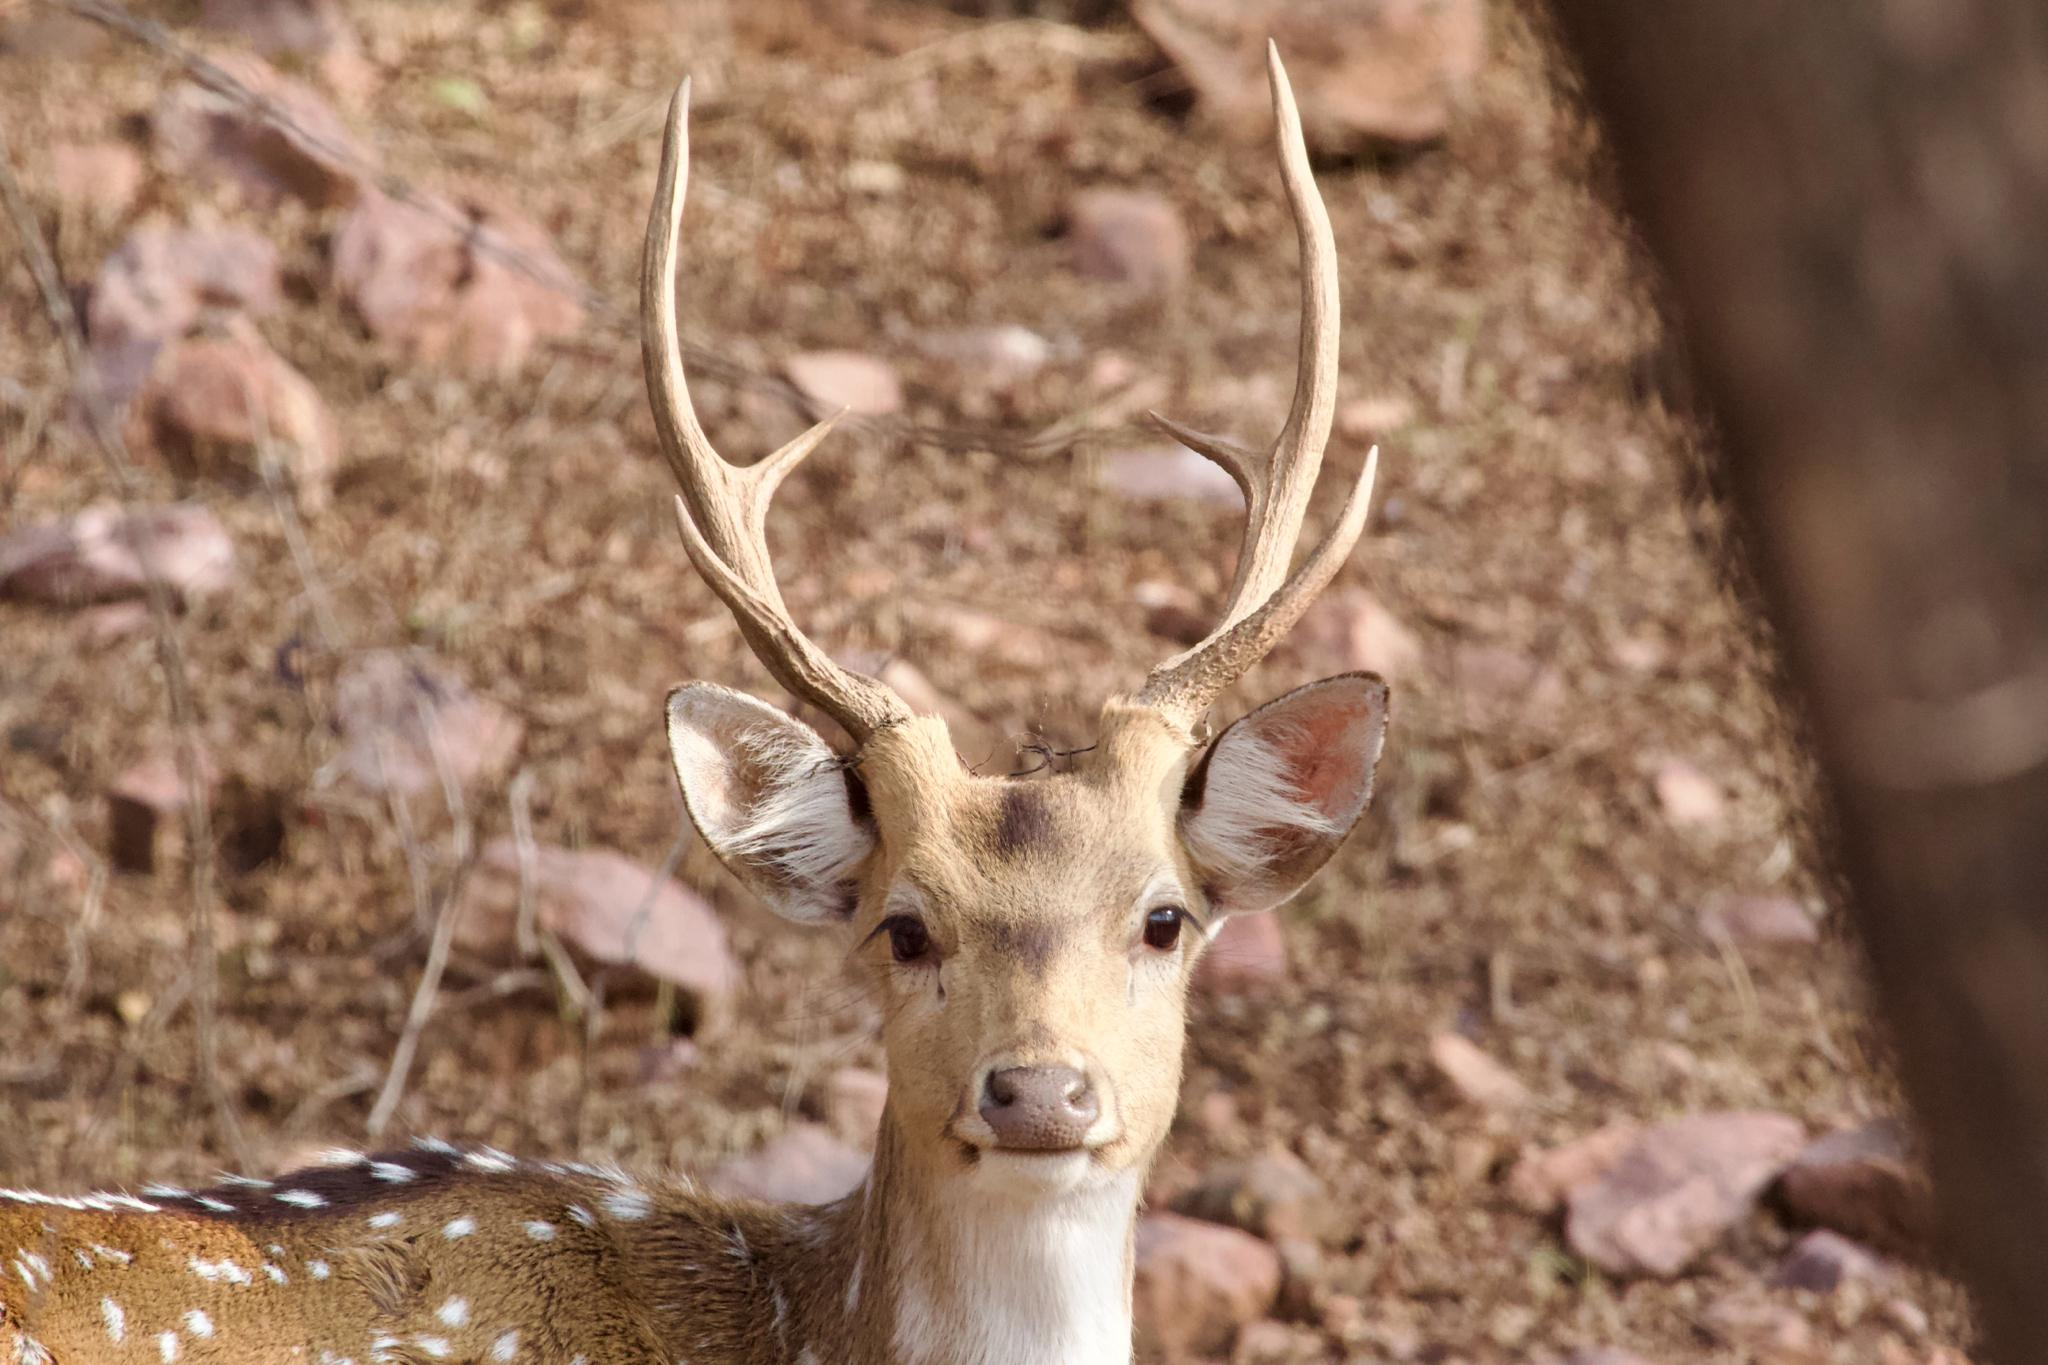Deer: (0, 49, 1387, 1363)
